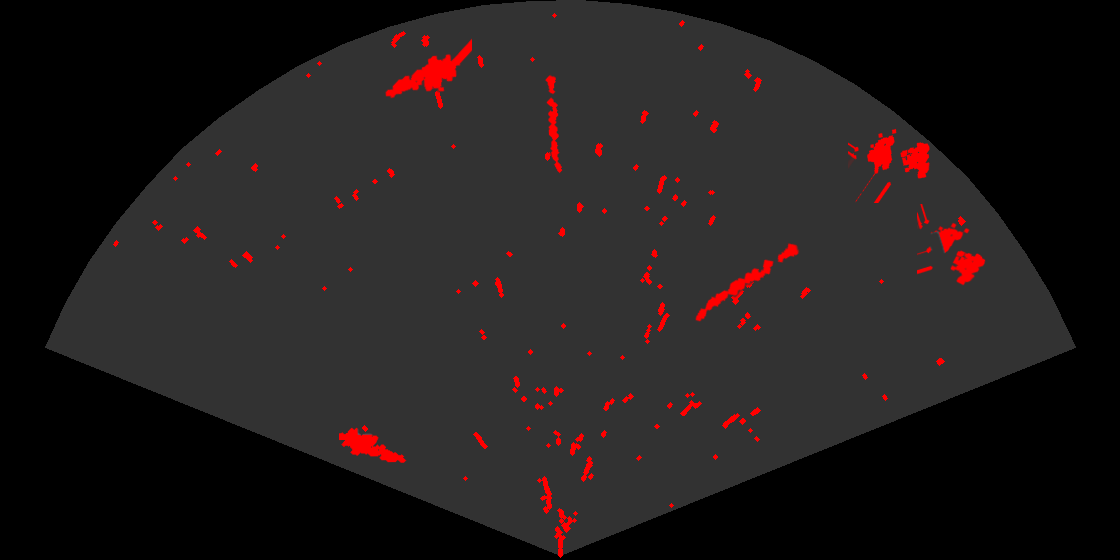cage: (848, 127, 931, 203), (917, 204, 987, 287)
chain: (694, 241, 801, 323), (544, 73, 564, 174)
frogman: (383, 37, 472, 100), (339, 426, 407, 464)
